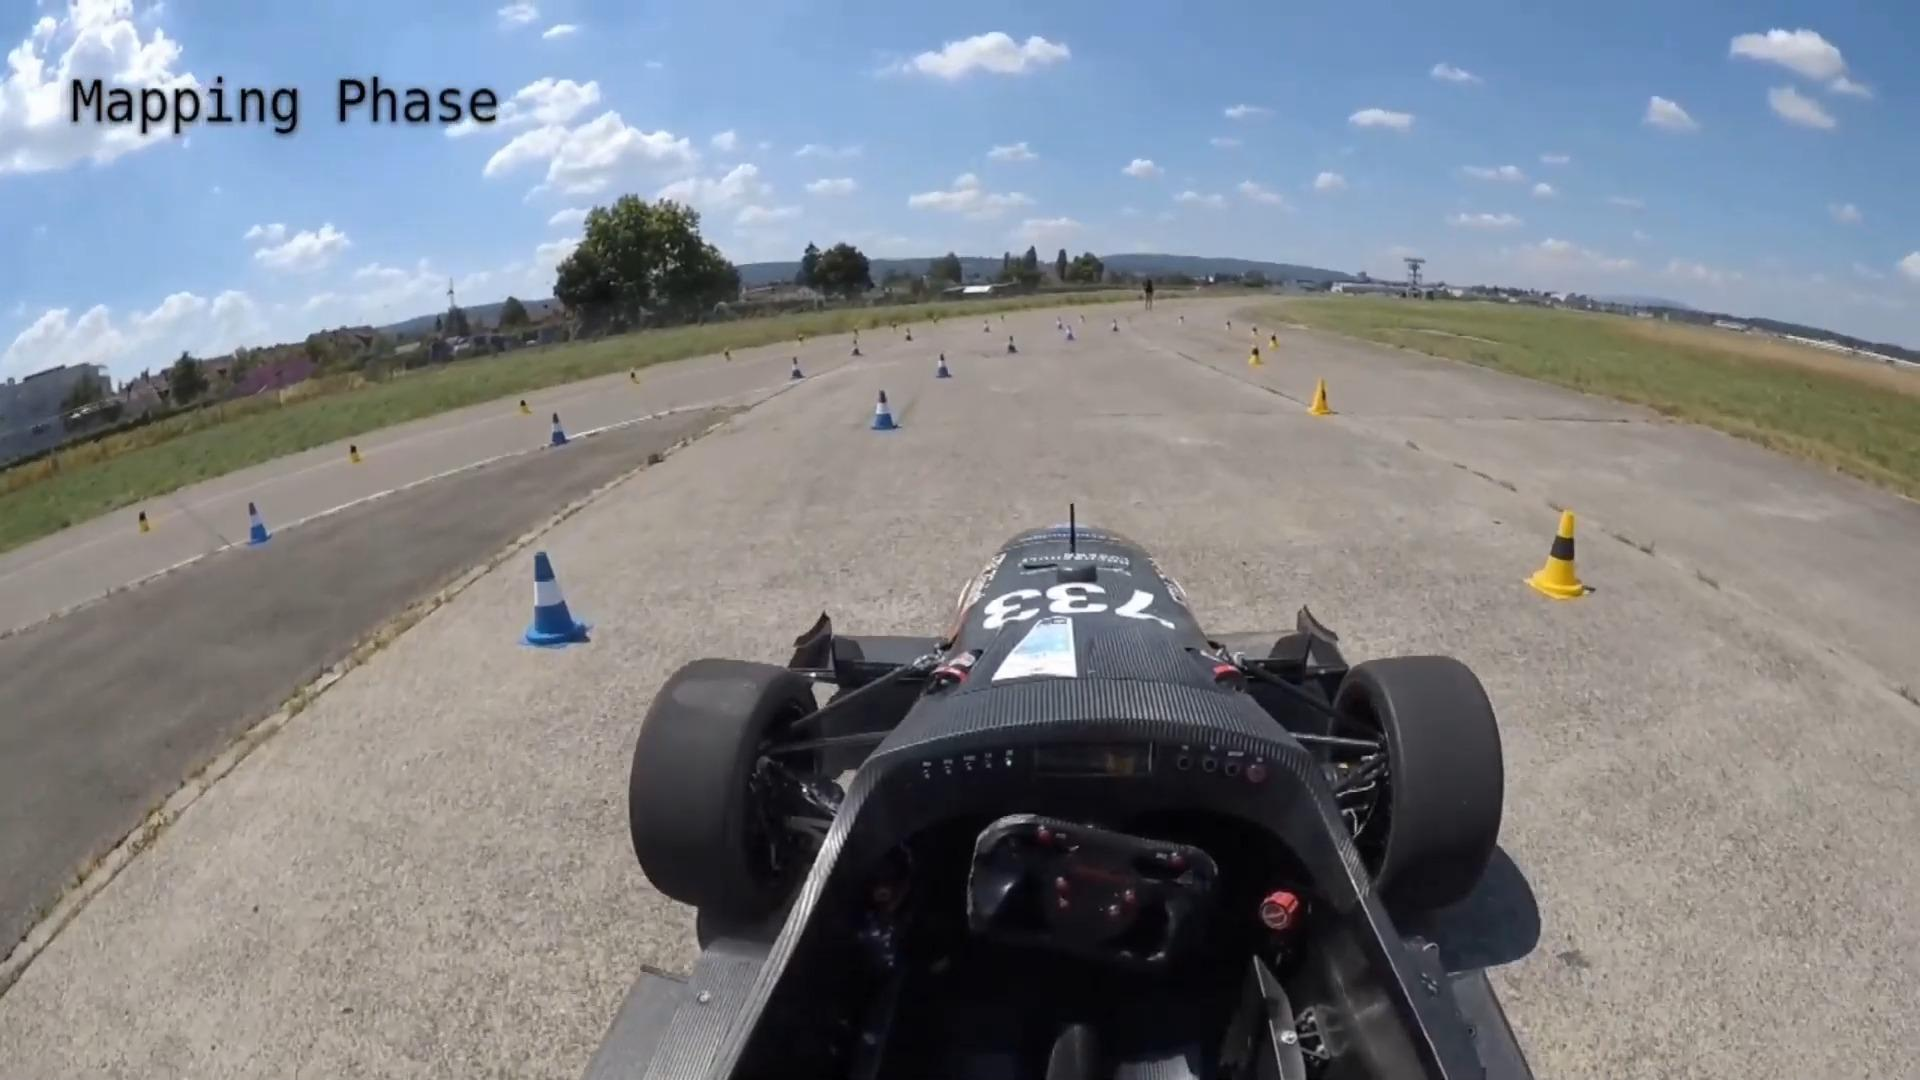blue_cone: (521, 549, 591, 649), (239, 499, 277, 549), (865, 389, 902, 435), (544, 409, 572, 450), (934, 354, 954, 380), (1005, 334, 1019, 356), (1063, 325, 1076, 342), (1055, 316, 1064, 331)
yellow_cone: (1524, 504, 1596, 607), (1307, 379, 1332, 416), (1249, 345, 1265, 367), (1269, 333, 1280, 349)
